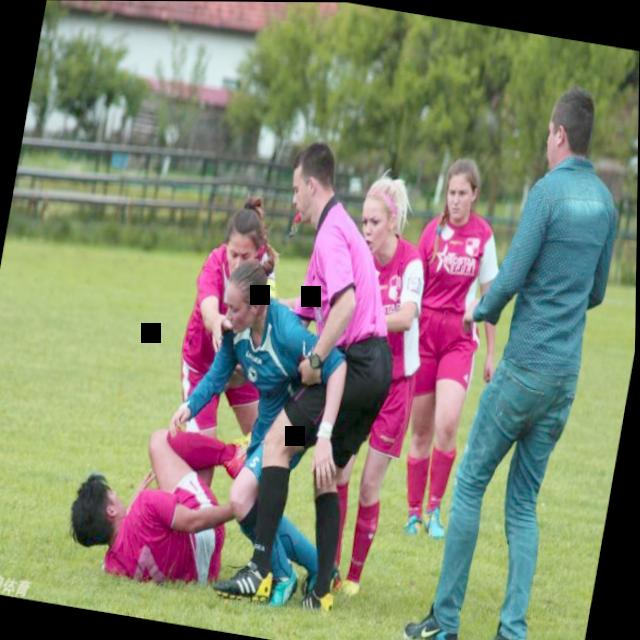Fall-Detected: (51, 388, 301, 614)
